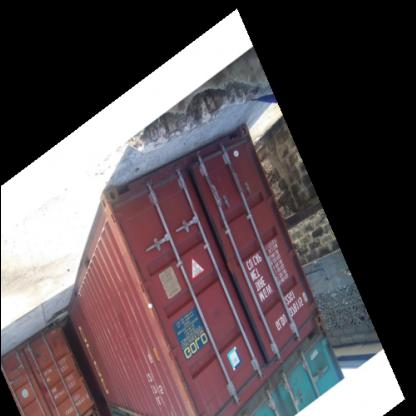Damage: (166, 340, 200, 408)
